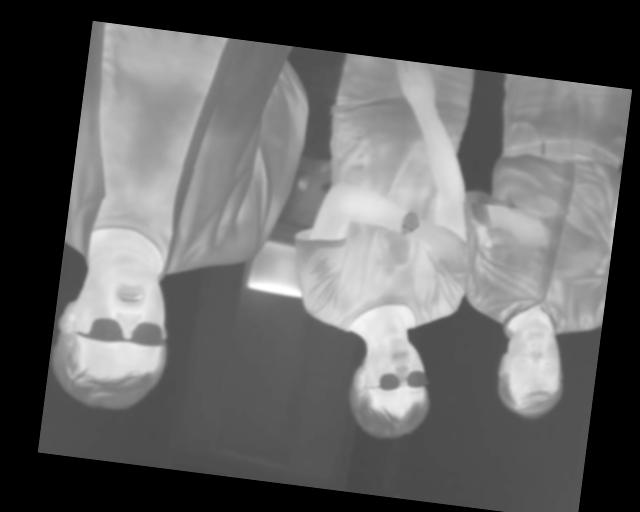face: (47, 250, 179, 417), (344, 333, 440, 446), (492, 316, 571, 422)
